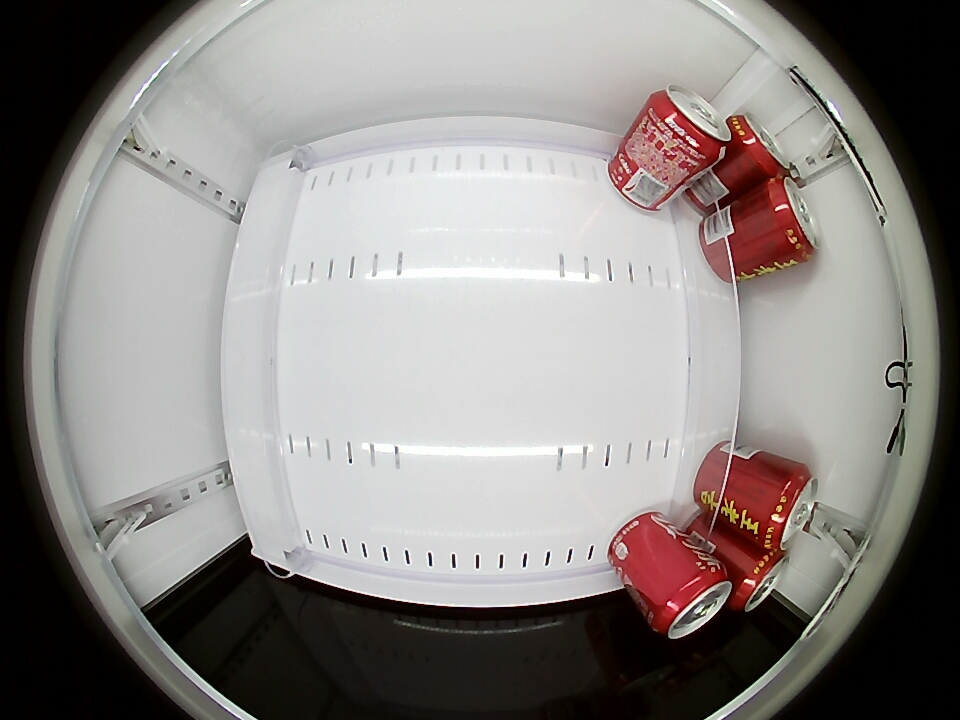kele: (647, 86, 731, 162), (650, 562, 732, 639)
wanglaoji-c: (756, 464, 818, 551), (762, 176, 820, 266), (729, 112, 793, 179), (732, 548, 789, 613)
